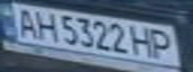2: (90, 18, 112, 52), (109, 20, 130, 55)
3: (72, 16, 96, 48)
5: (54, 12, 78, 46)
A: (9, 6, 42, 38)
H: (127, 24, 157, 58), (30, 9, 60, 42)
P: (148, 27, 181, 61)
